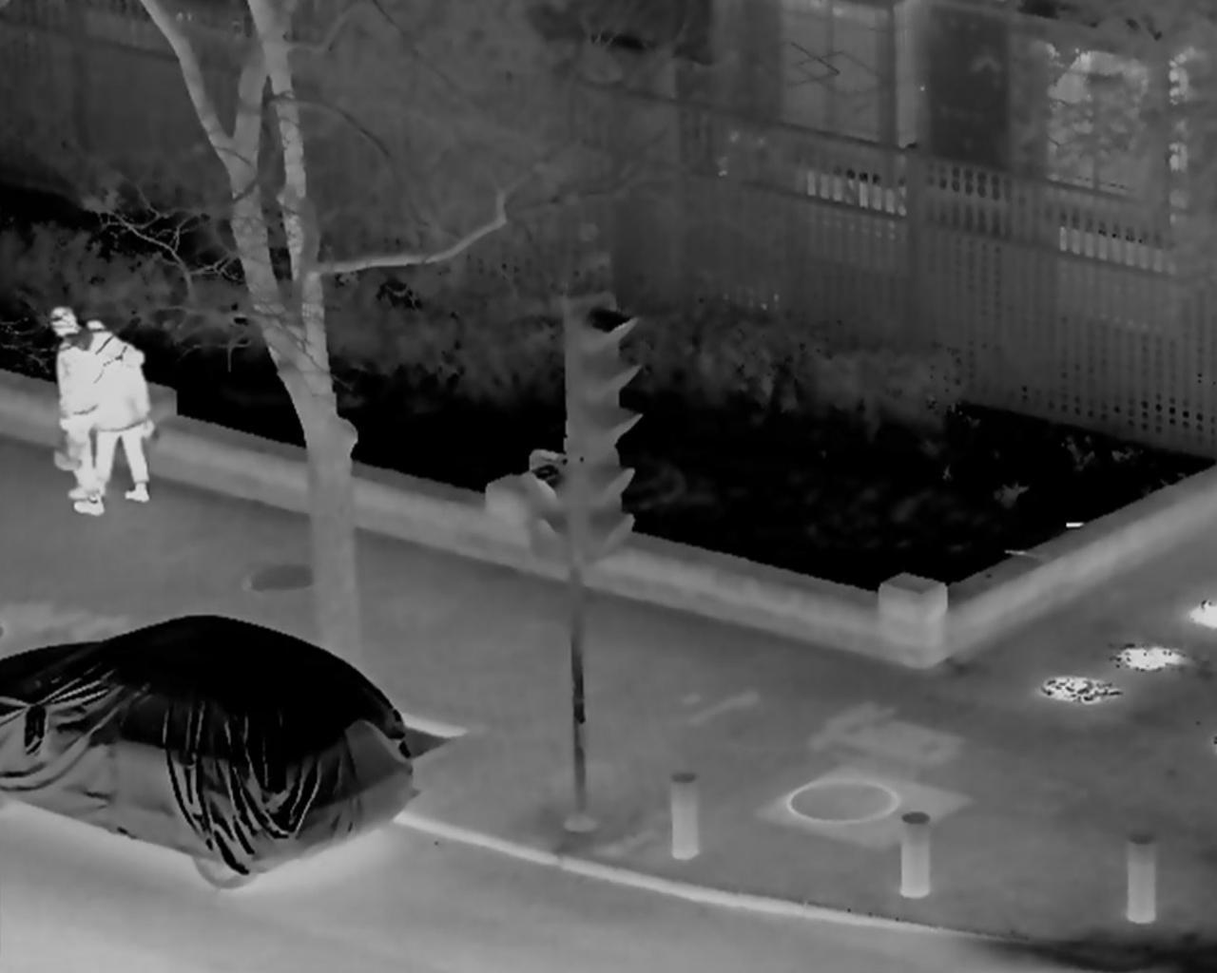person: (45, 309, 115, 523), (84, 317, 157, 510)
